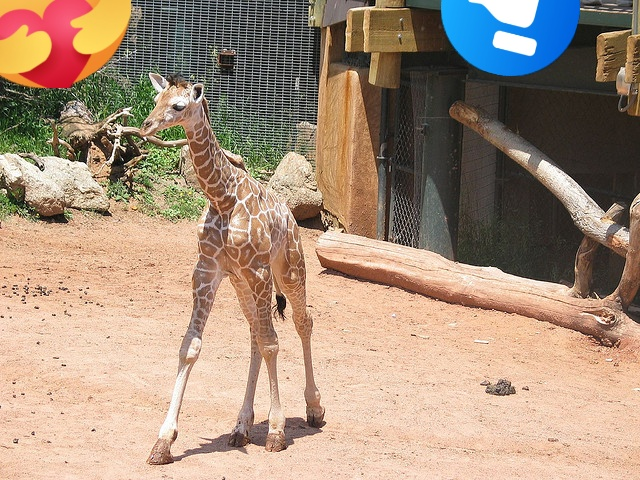care: (0, 0, 131, 88)
like: (441, 0, 580, 76)
